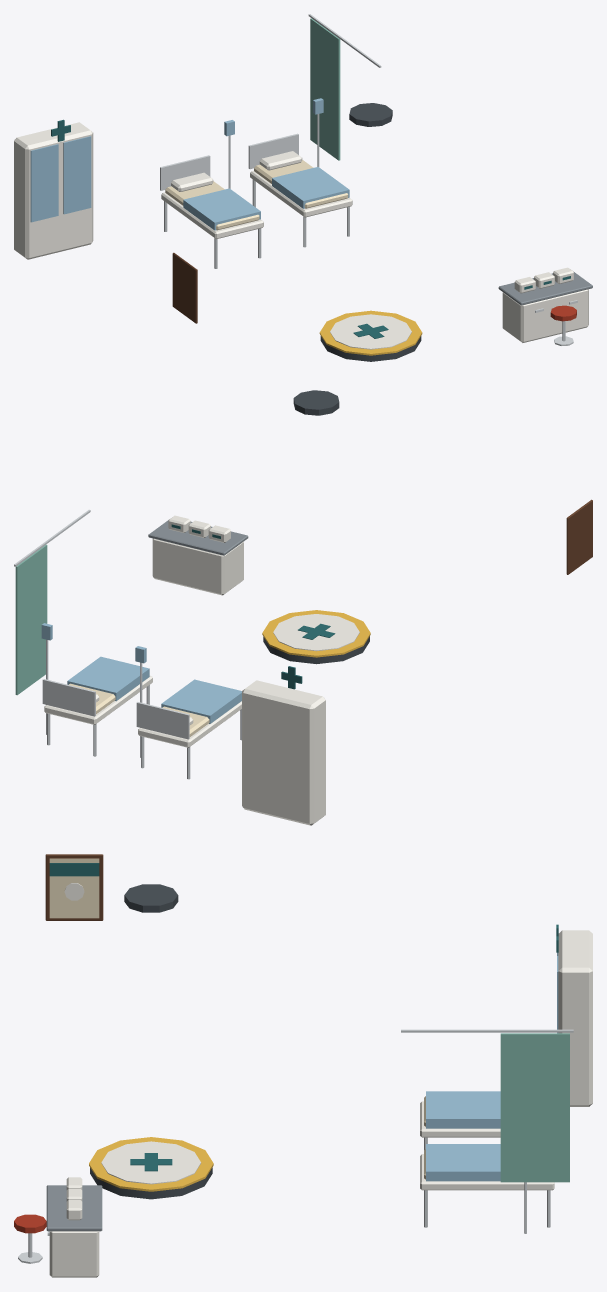
The model's file is Room_Medbay_L2.fbx.
3 renders of one model, top to bottom at view 1: azimuth 30°, elevation 25°; view 2: azimuth 150°, elevation 25°; view 3: azimuth 270°, elevation 25°, orthographic. The views are drawn at different scales.
Visible parts, largest first — view 1: Decor, Cabinet1, DecorGlass, Desk1, Bed2, Bed1, RespawnPad; view 2: Decor, Cabinet1, Desk1, Bed1, Bed2, RespawnPad; view 3: Decor, Cabinet1, Desk1, Bed1, RespawnPad, Bed2.
Part boxes in pixels (x1,y1,x2,y2): Decor: (51,14,592,355); Cabinet1: (14,122,93,259); DecorGlass: (30,136,91,222); Desk1: (502,289,588,342); Bed2: (161,192,263,239); Bed1: (250,170,352,217); RespawnPad: (320,336,421,361); Decor: (14,390,592,779); Cabinet1: (242,680,325,825); Desk1: (152,538,243,595); Bed1: (44,675,152,724); Bed2: (138,701,241,747); RespawnPad: (263,636,369,664); Decor: (14,854,573,1263); Cabinet1: (558,930,592,1106); Desk1: (49,1231,99,1277); Bed1: (420,1154,554,1190); RespawnPad: (90,1167,212,1199); Bed2: (420,1101,500,1137).
Bounding box in the file's own units: 29.15 × 16 × 30.15.
